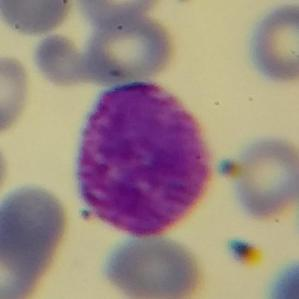Basophil: (66, 72, 223, 245)
Platelets: (225, 237, 264, 268), (217, 157, 242, 179)
RBC: (0, 180, 73, 297), (80, 10, 178, 86), (100, 230, 206, 299), (223, 132, 298, 222), (245, 0, 299, 86), (30, 31, 92, 89), (0, 0, 77, 37), (0, 51, 33, 137), (76, 0, 162, 26), (263, 254, 299, 299), (0, 130, 11, 208)
